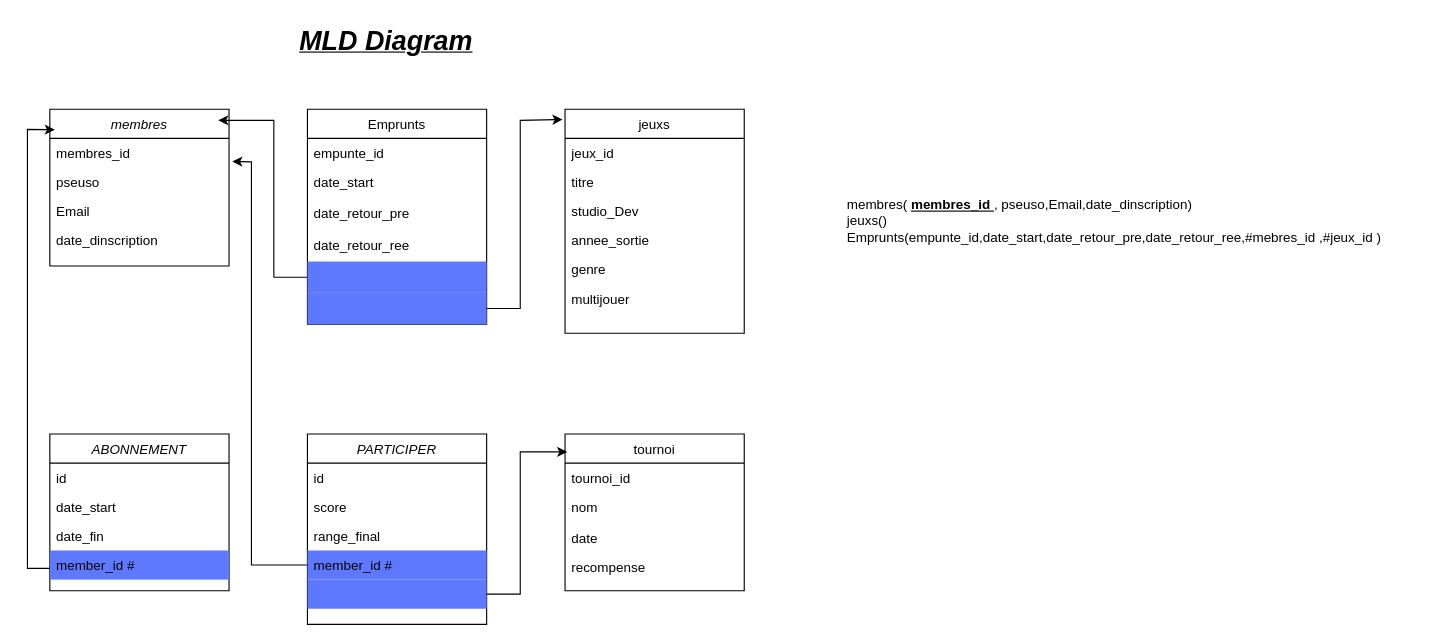
This 1436x644 diagram has some shape labels left out. Each missing label, with the centre of its shape:
jeux_id #: the point at 396,308
mebres_id #: the point at 396,276
tournoi_id #: the point at 396,593
